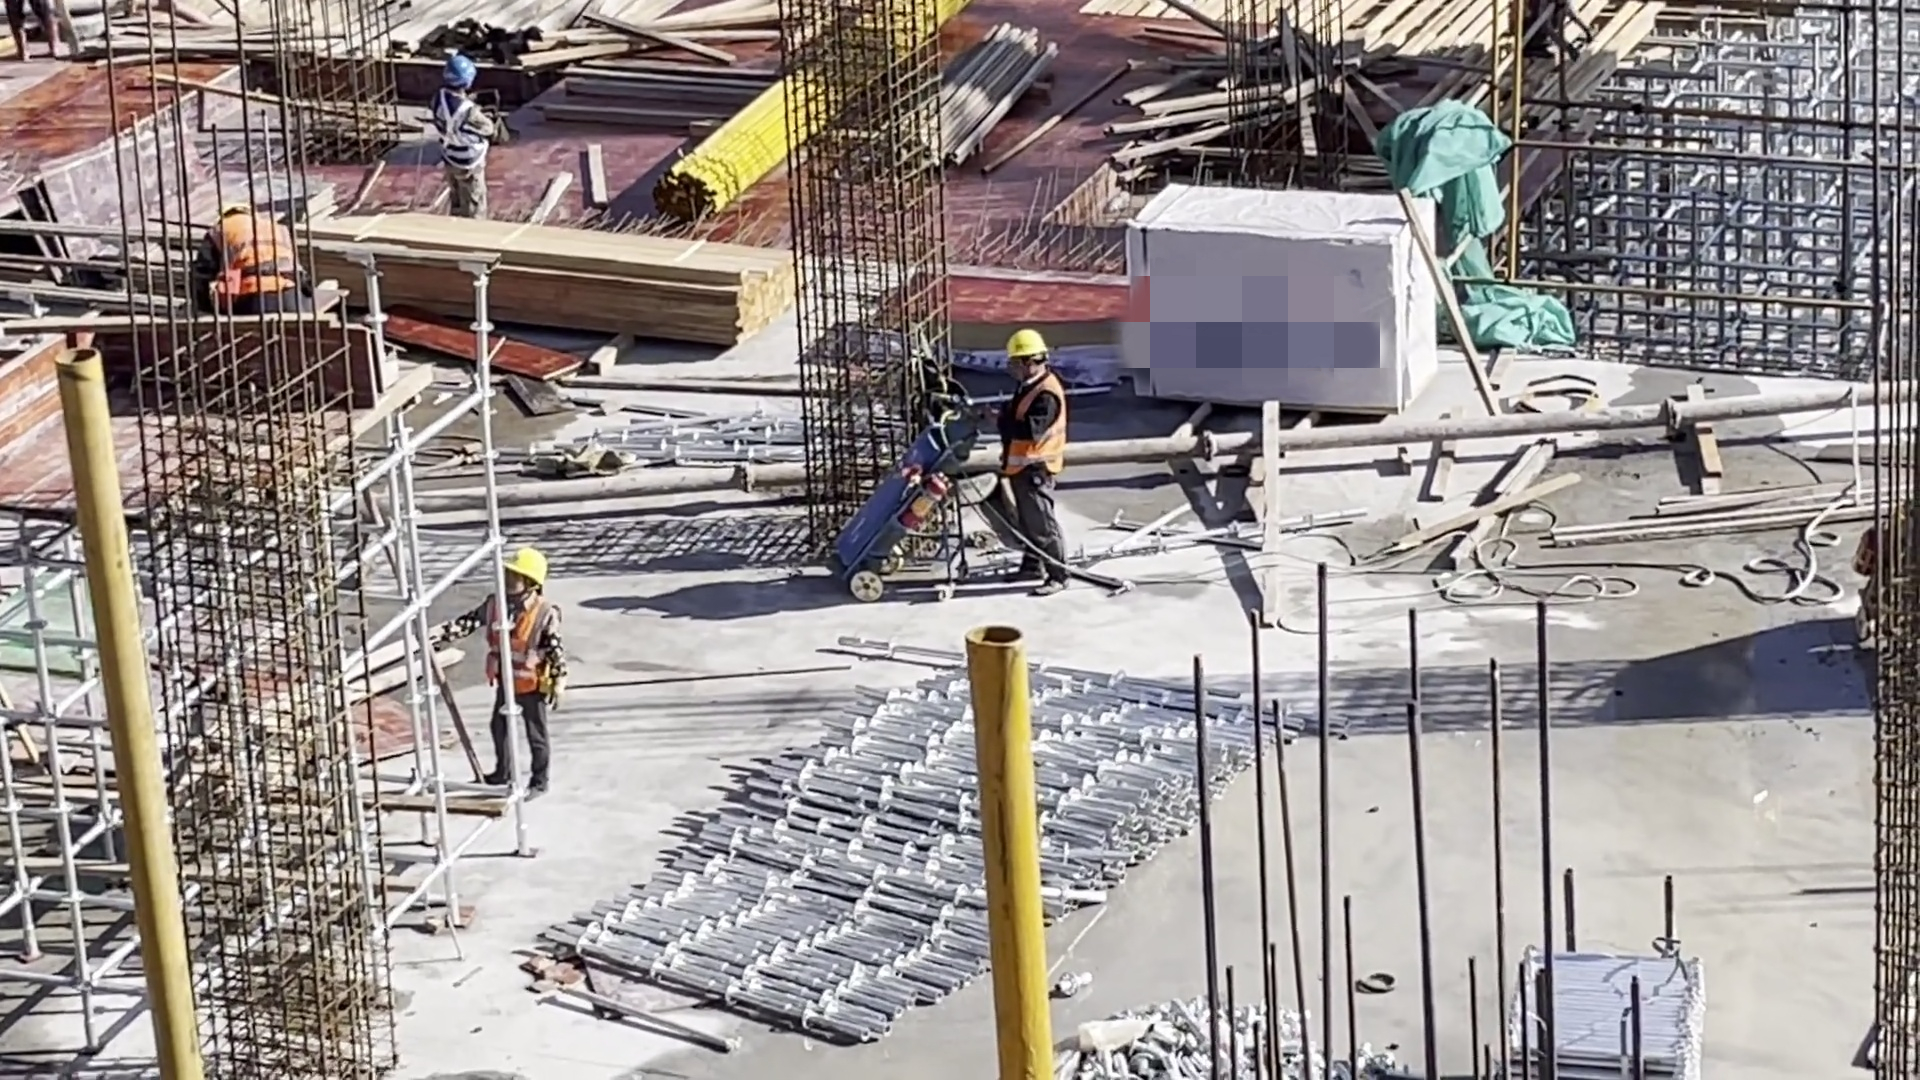helmet: (504, 549, 548, 594), (1006, 330, 1050, 357), (447, 56, 473, 83)
person: (428, 550, 567, 805), (1000, 324, 1071, 611), (192, 200, 311, 317), (428, 49, 499, 226)
vest: (480, 593, 559, 695), (1007, 382, 1070, 480), (218, 216, 296, 293), (435, 94, 484, 168)
